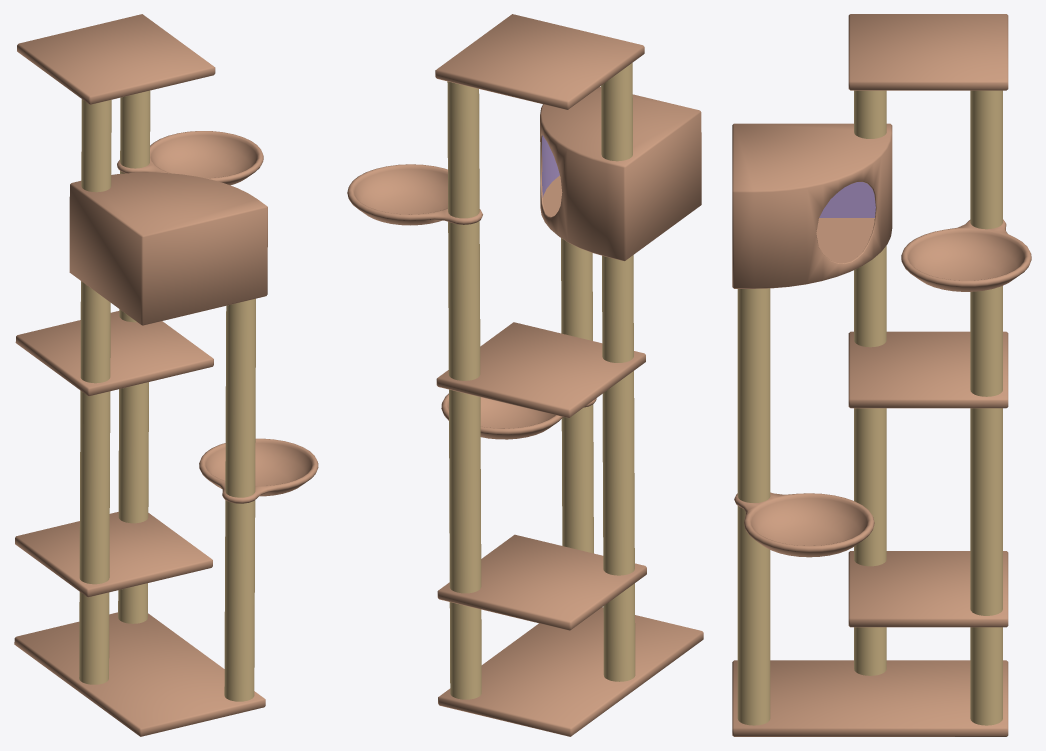
Rendered from Cattree.fbx.
3 renders of one model, left to right at view 1: azimuth 30°, elevation 25°; view 2: azimuth 150°, elevation 25°; view 3: azimuth 270°, elevation 25°, orthographic. The views are drawn at different scales.
Visible parts, largest first — view 1: Cat_climbing_tower; view 2: Cat_climbing_tower; view 3: Cat_climbing_tower.
Boxes of the visible parts, box(x1,y1,x2,y2) form: Cat_climbing_tower: box(14, 14, 318, 736); Cat_climbing_tower: box(347, 14, 703, 736); Cat_climbing_tower: box(732, 14, 1031, 736).
Size of the model in its own units: 384 by 992 by 409.
